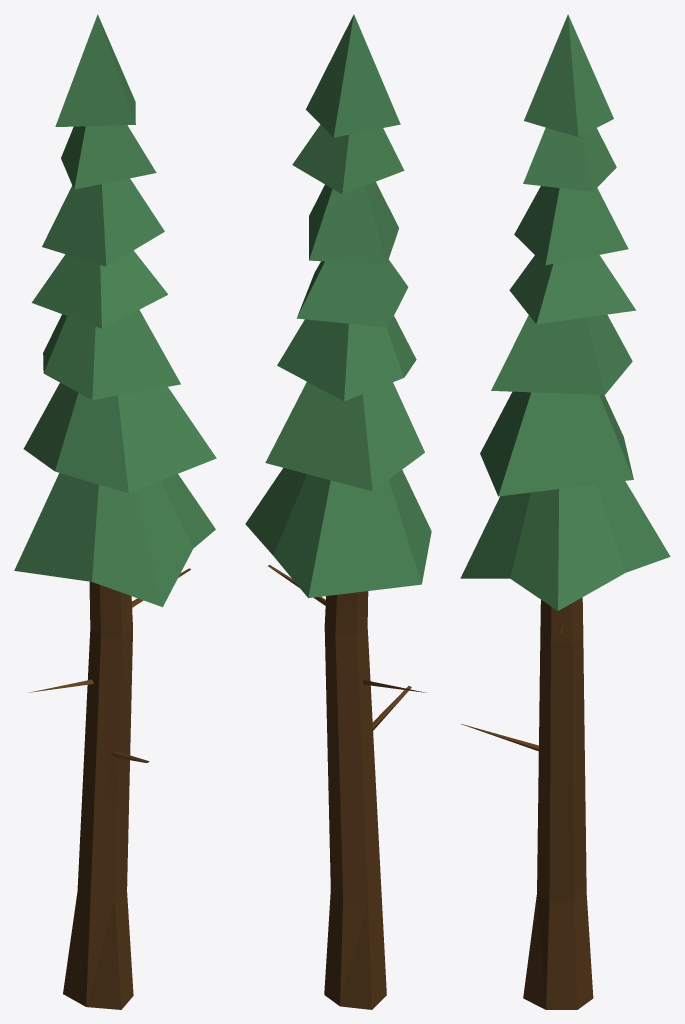
Rendered from tundra.tall.gltf.
The picture shows the model from 3 angles, left to right: view 1: azimuth 30°, elevation 25°; view 2: azimuth 150°, elevation 25°; view 3: azimuth 270°, elevation 25°; orthographic projection.
Visible parts, largest first — view 1: canopy, trunk; view 2: canopy, trunk; view 3: canopy, trunk.
Part boxes in pixels (<box>): canopy: <box>14,14,216,607</box>; trunk: <box>29,568,190,1009</box>; canopy: <box>245,14,431,598</box>; trunk: <box>268,565,426,1009</box>; canopy: <box>460,14,670,610</box>; trunk: <box>461,597,593,1009</box>.
Size of the model in its own units: 1.66 by 8.2 by 1.59.
